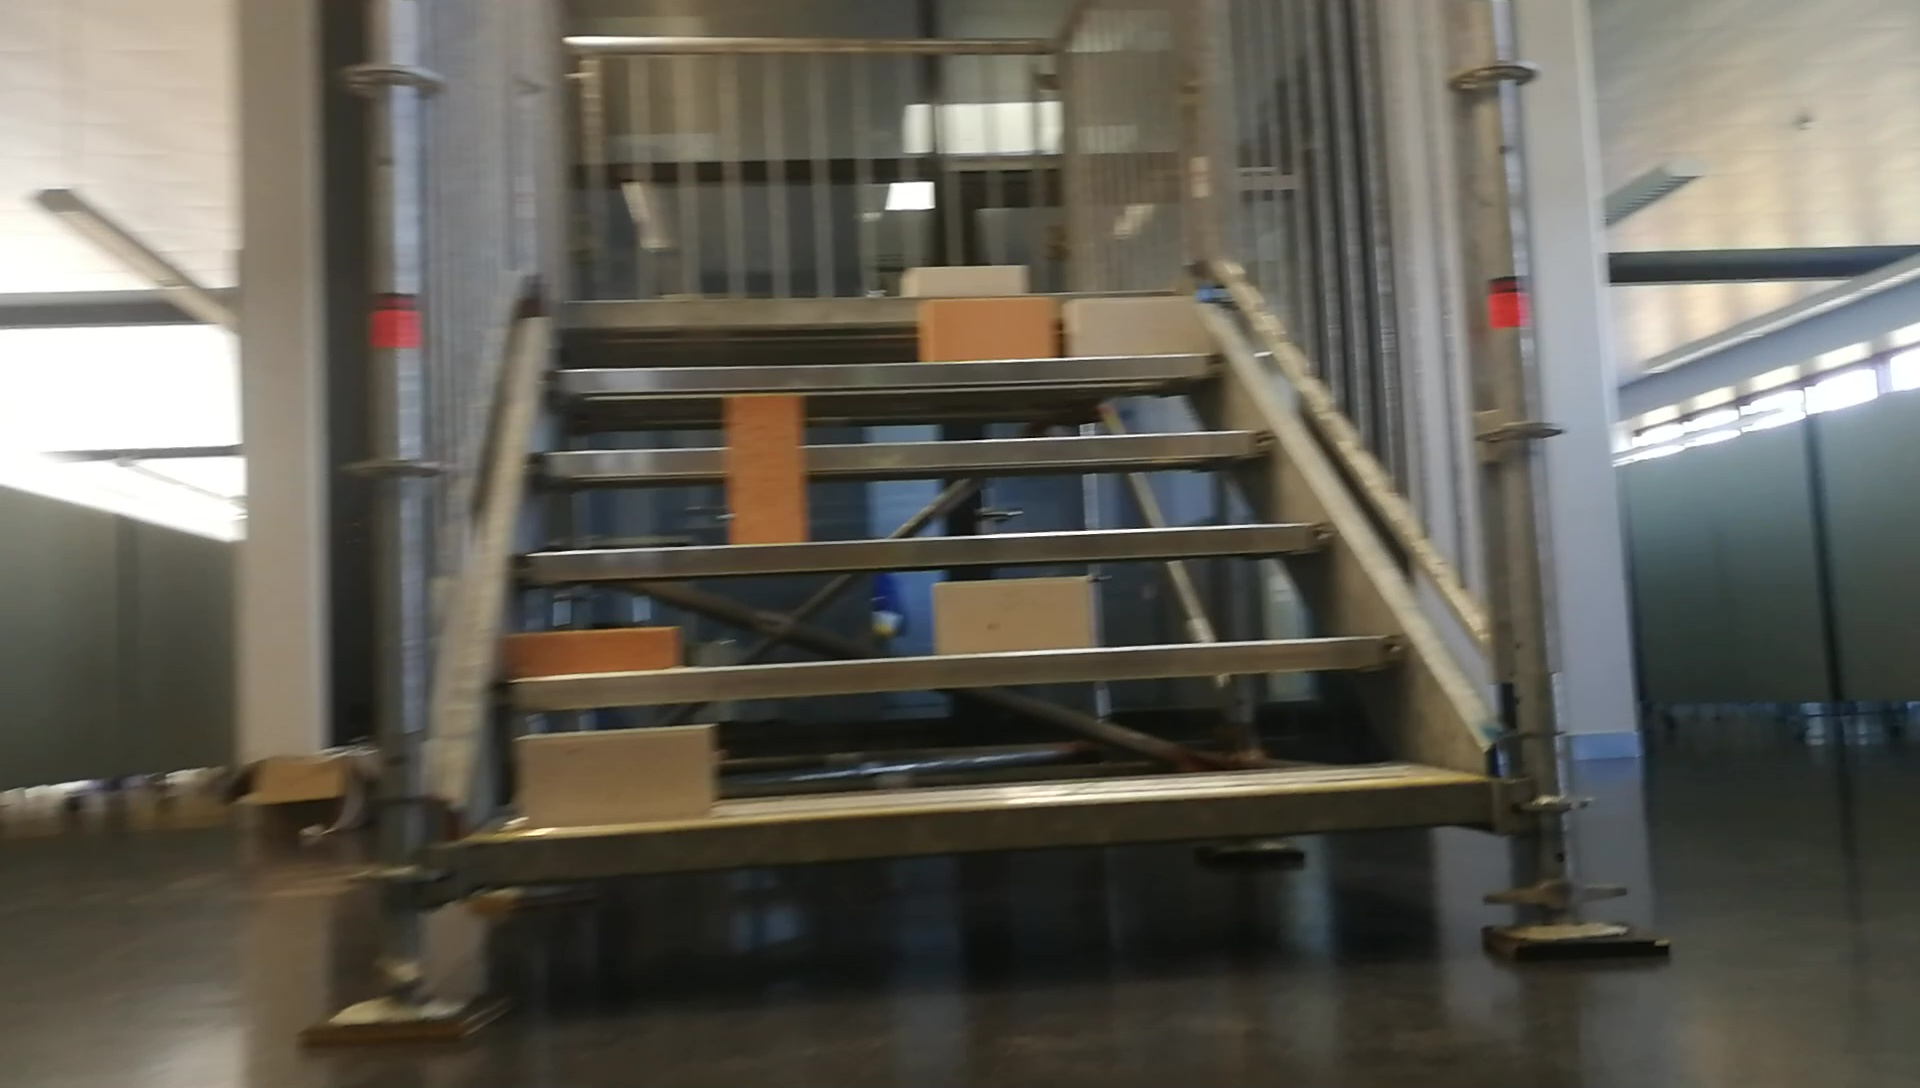brick: (520, 727, 711, 823), (932, 583, 1092, 650), (728, 396, 800, 543), (920, 299, 1046, 361), (1069, 295, 1197, 355), (510, 626, 670, 673), (905, 265, 1022, 295)
edge: (469, 778, 1485, 882), (485, 630, 1406, 706), (510, 520, 1338, 582), (525, 429, 1279, 477), (539, 348, 1230, 394)
stairs: (302, 3, 1668, 1055)
steps: (458, 247, 1499, 906)
